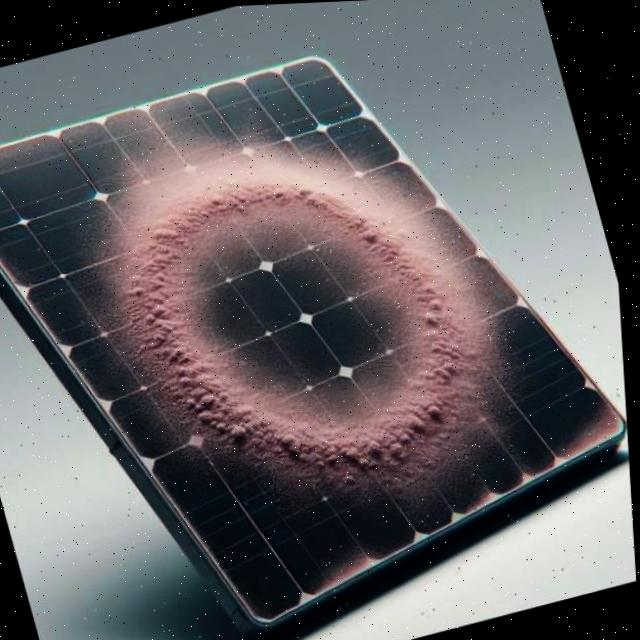Surface Contaminant: (34, 77, 577, 551), (537, 392, 630, 488), (303, 537, 387, 594)
